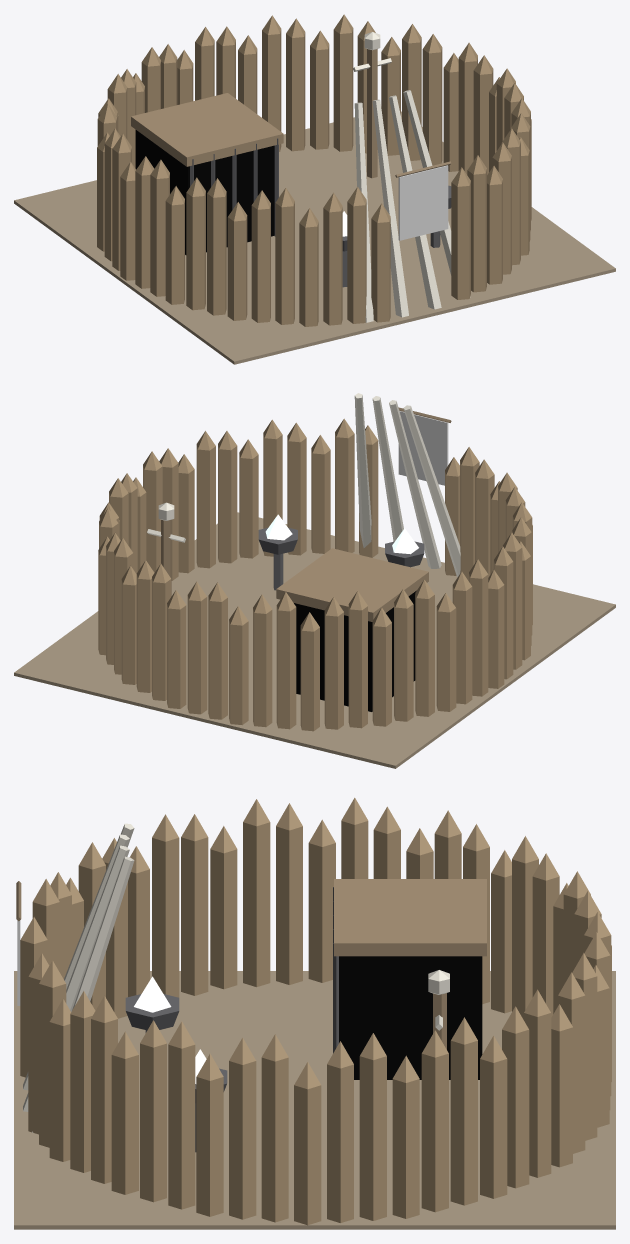
3 renders of one model, top to bottom at view 1: azimuth 30°, elevation 25°; view 2: azimuth 150°, elevation 25°; view 3: azimuth 270°, elevation 25°, orthographic. The views are drawn at different scales.
Visible parts, largest first — view 1: body; view 2: body; view 3: body.
Boxes of the visible parts, left/top/right/bottom form: body: left=14, top=14, right=615, bottom=364; body: left=14, top=393, right=615, bottom=768; body: left=14, top=797, right=615, bottom=1229.
Size of the model in its own units: 12.6 by 6.1 by 12.6.
